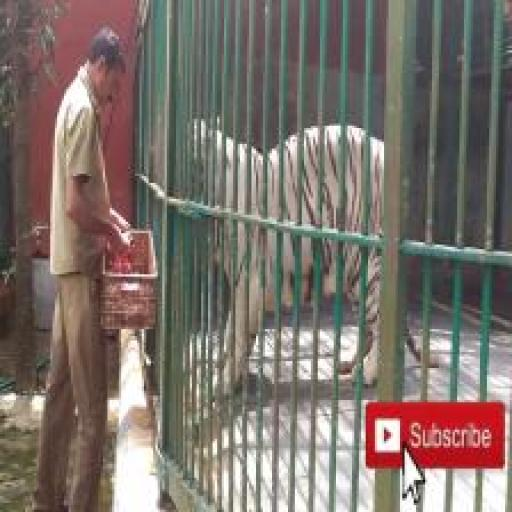Tiger: (178, 110, 446, 399)
